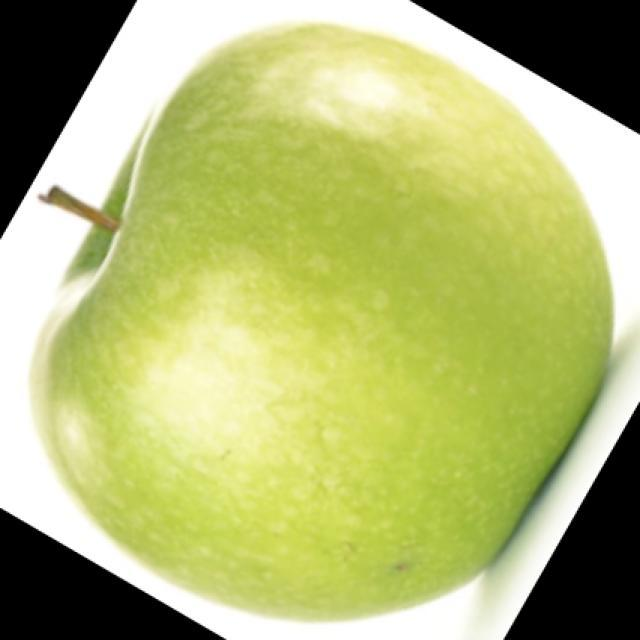Fresh Apple: (35, 40, 610, 573)
